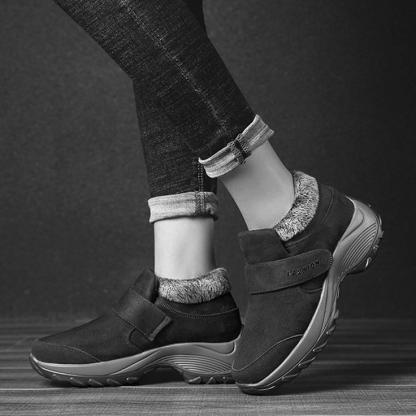ankle: (307, 220, 313, 233), (176, 290, 178, 298)
heel: (219, 372, 225, 380), (365, 205, 371, 209)
left_foot: (230, 176, 385, 391)
pinky: (58, 329, 68, 335), (288, 342, 293, 349)
right_foot: (30, 268, 232, 388)
toe: (68, 354, 79, 362), (236, 358, 240, 365)
